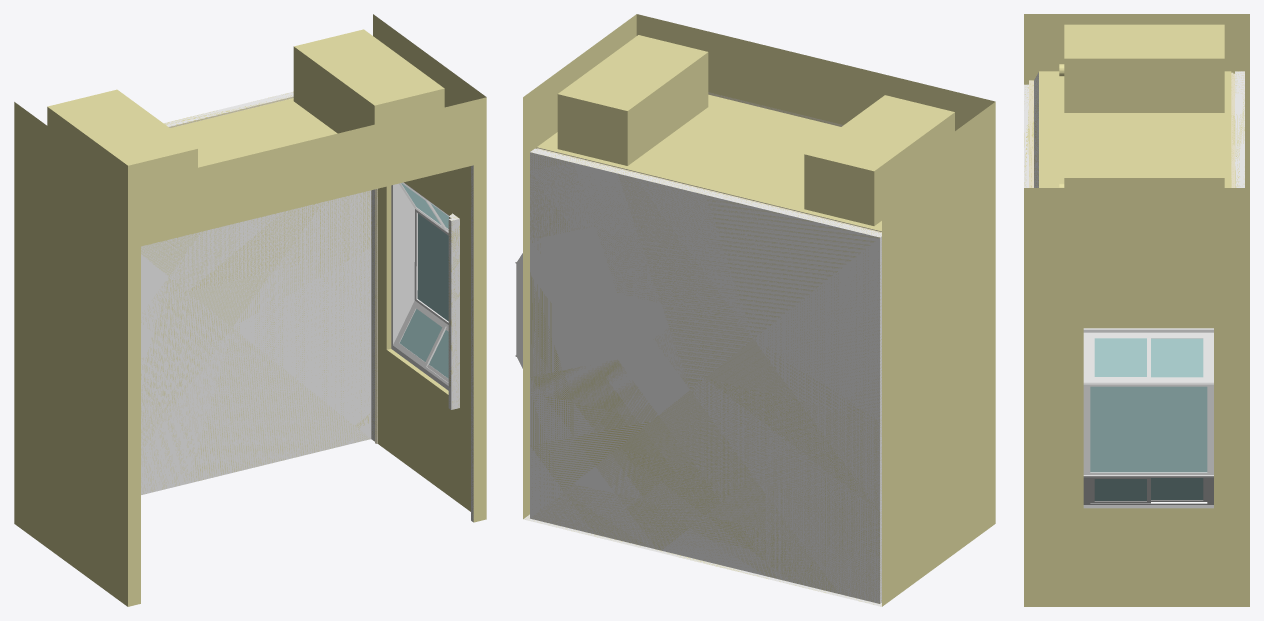
File: room07.obj
3 renders of one model, left to right at view 1: azimuth 30°, elevation 25°; view 2: azimuth 150°, elevation 25°; view 3: azimuth 270°, elevation 25°, orthographic.
Parts seen in each view (by area): view 1: room07; view 2: room07; view 3: room07.
Part boxes in pixels (x1,y1,x2,y2): room07: (14, 14, 486, 606); room07: (515, 14, 995, 606); room07: (1024, 14, 1249, 606).
Bounding box in the file's own units: 264 × 276 × 135.
